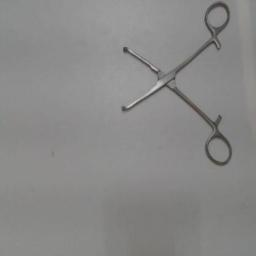Allis Tissue Forceps: (120, 0, 236, 170)
